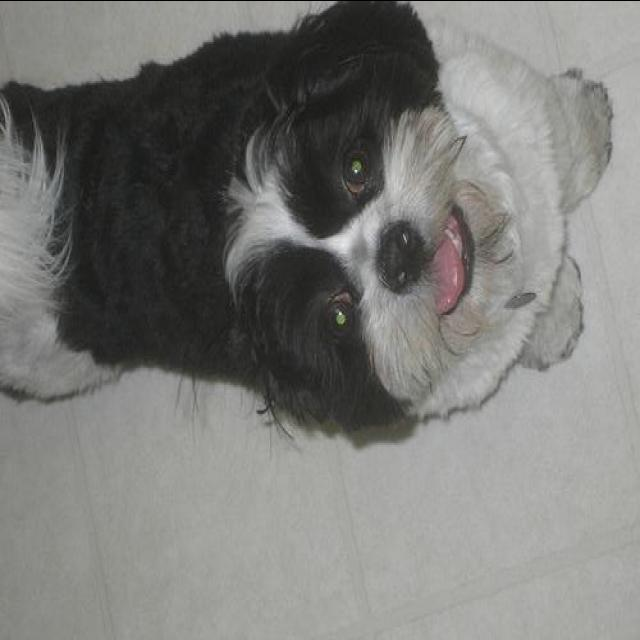shih_tzu: (0, 4, 614, 449)
